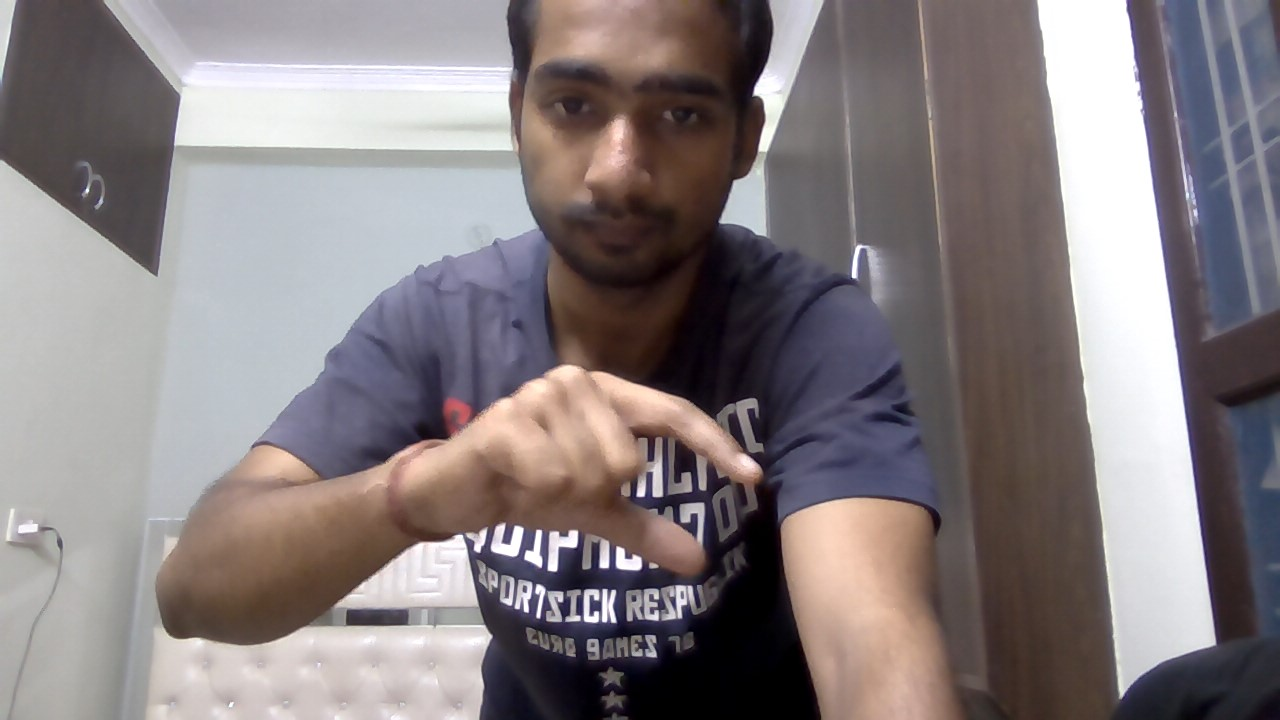Paste: (416, 348, 770, 611)
